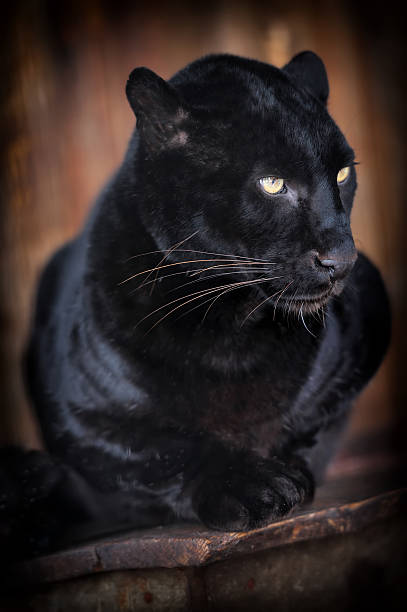panther: (101, 40, 377, 347)
